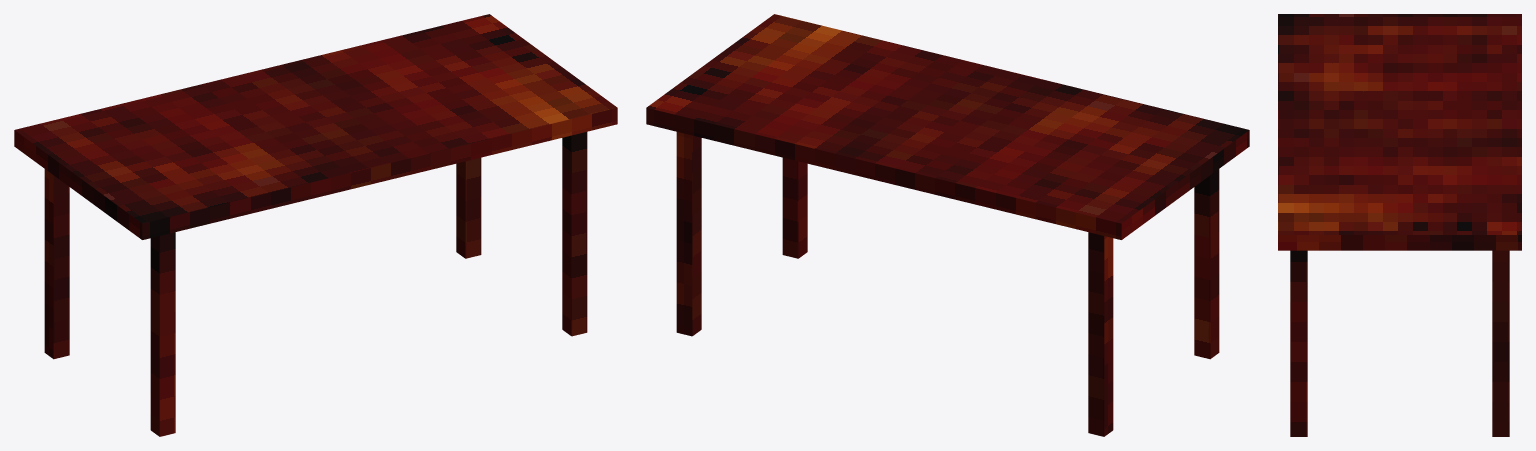
Rendered from Table.fbx.
3 views of the same model, side by side, from view 1: azimuth 30°, elevation 25°; view 2: azimuth 150°, elevation 25°; view 3: azimuth 270°, elevation 25° (orthographic). The views are drawn at different scales.
Visible parts, largest first — view 1: Cube; view 2: Cube; view 3: Cube.
Boxes of the visible parts, x1=… form: Cube: x1=14, y1=14, x2=617, y2=436; Cube: x1=646, y1=14, x2=1249, y2=436; Cube: x1=1278, y1=14, x2=1521, y2=436.
Bounding box in the file's own units: 899 × 405 × 419.
1 material, 1 textured.
